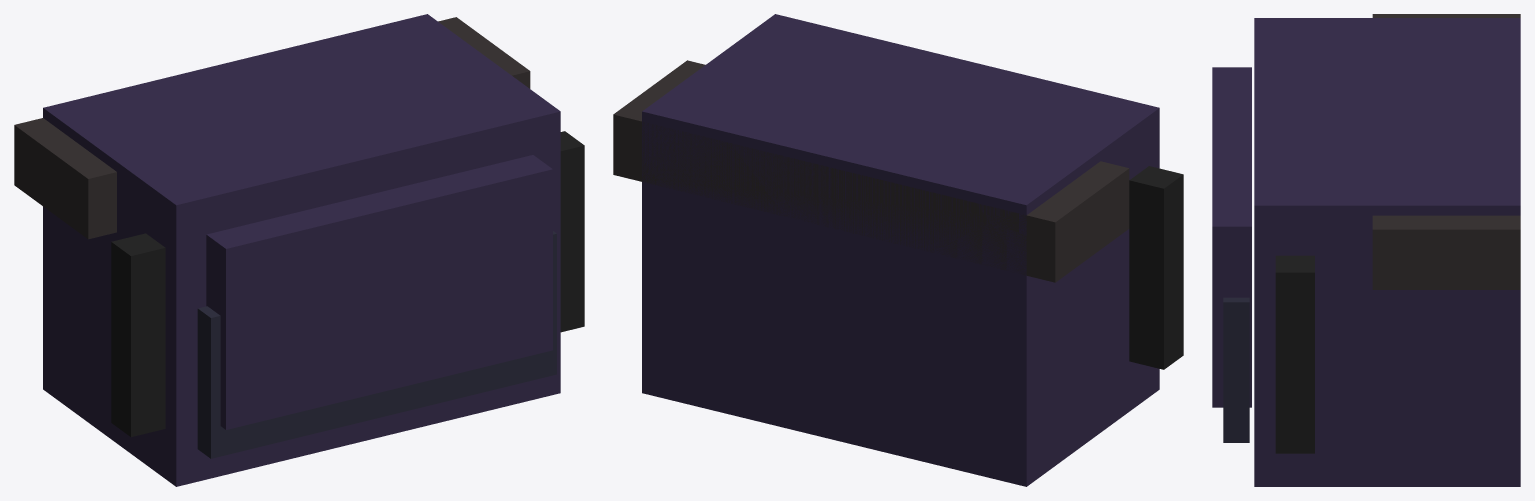
Rendered from body_002.obj.
The picture shows the model from 3 angles, left to right: view 1: azimuth 30°, elevation 25°; view 2: azimuth 150°, elevation 25°; view 3: azimuth 270°, elevation 25°; orthographic projection.
Bounding box in the file's own units: 1.59 × 0.945 × 0.9375.
